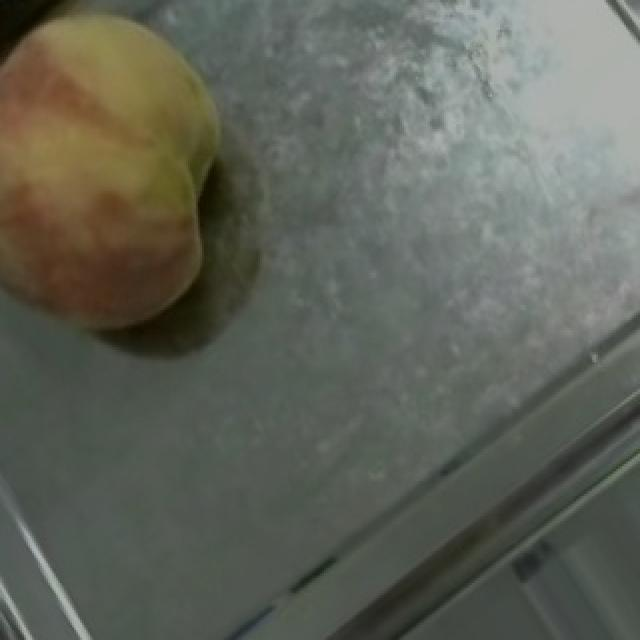Fruit: (0, 0, 260, 313)
